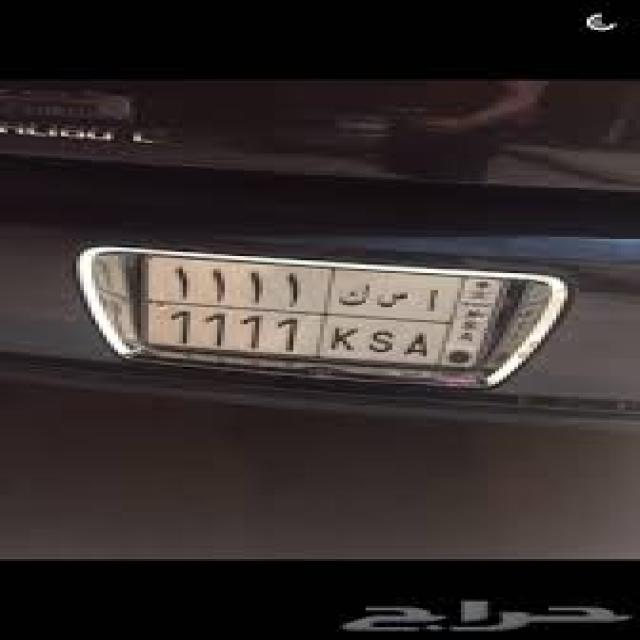license_plate: (133, 250, 518, 373)
